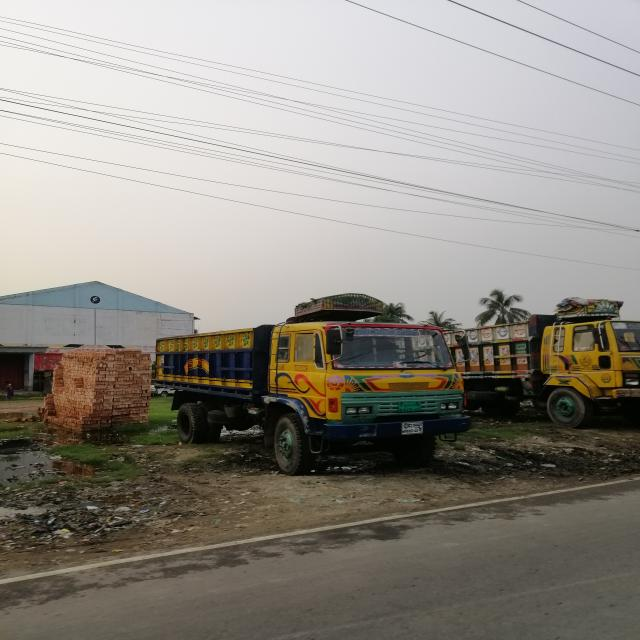Truck: (152, 292, 474, 480)
